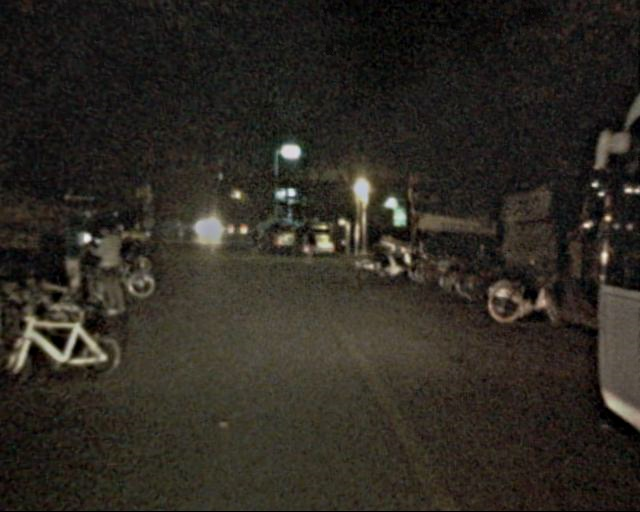person: (92, 217, 133, 316), (301, 224, 319, 269), (247, 221, 263, 259)
